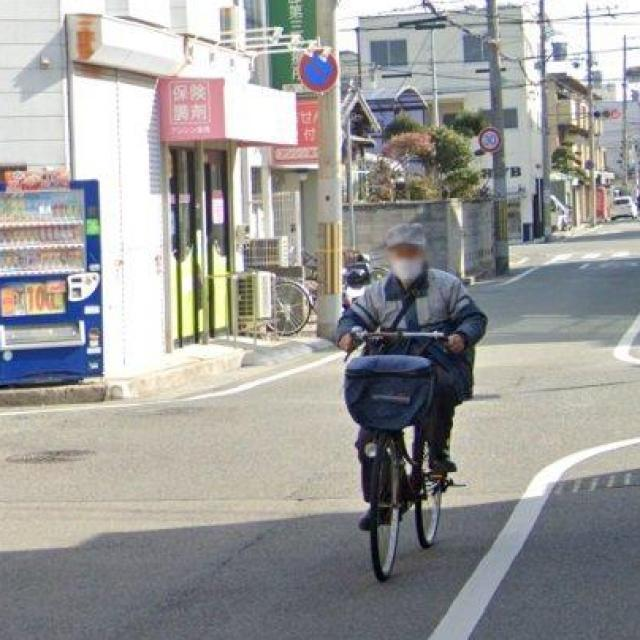bicycle: (372, 429, 454, 583)
